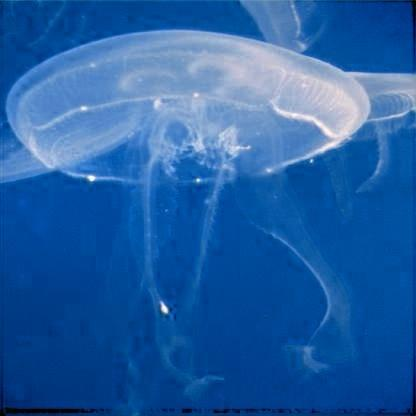Speckle: (16, 28, 372, 398), (4, 3, 334, 181), (295, 71, 414, 219)
